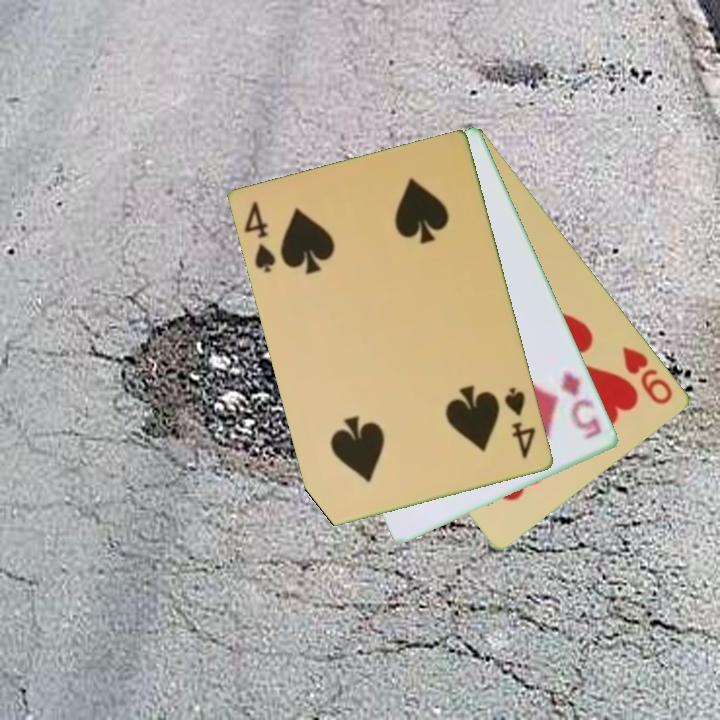4s: (501, 383, 539, 462), (241, 197, 279, 276)
5d: (557, 368, 605, 443)
9h: (619, 343, 677, 408)
